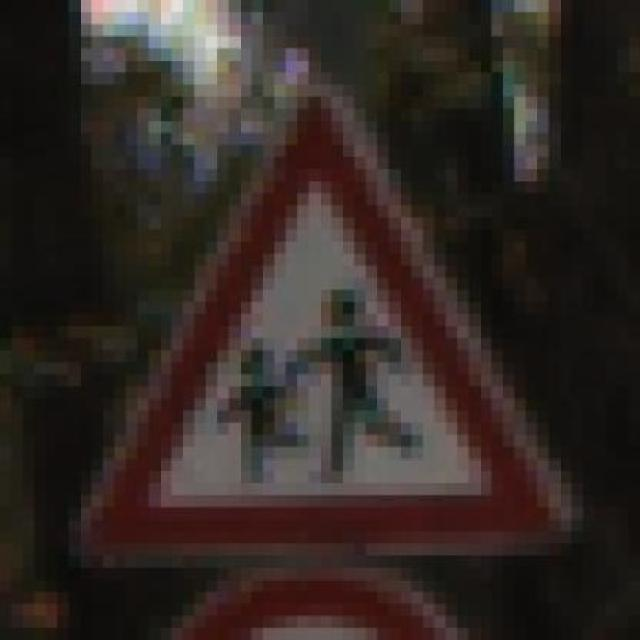Beware of children: (57, 85, 594, 568)
